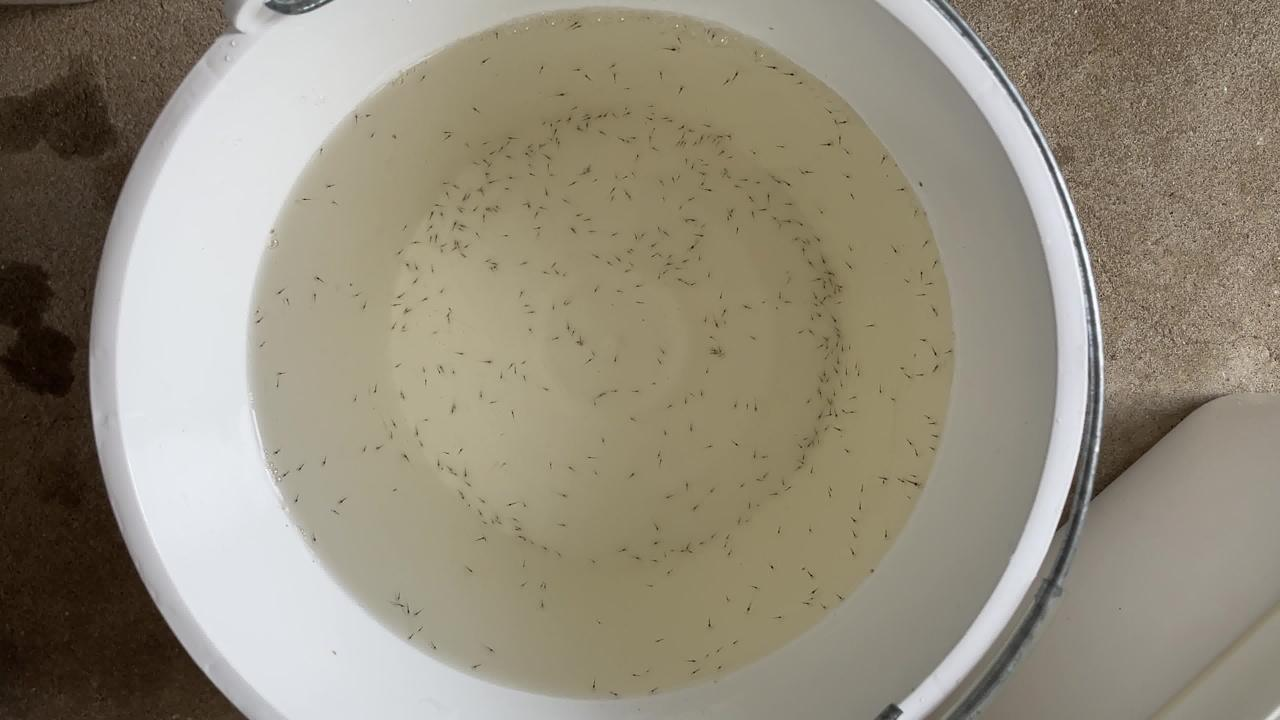shrimp: (485, 642, 497, 650), (474, 661, 486, 669), (428, 643, 440, 651), (405, 632, 417, 640), (415, 627, 427, 635), (417, 607, 429, 615), (402, 604, 414, 612), (397, 601, 409, 609), (393, 591, 405, 599), (309, 532, 321, 540), (330, 510, 342, 518), (334, 498, 346, 506), (291, 492, 303, 500), (281, 469, 293, 477), (298, 459, 310, 467), (326, 458, 338, 466), (270, 450, 282, 458), (318, 456, 330, 464), (357, 444, 369, 452), (373, 442, 385, 450), (404, 453, 416, 461), (417, 440, 429, 448), (412, 426, 424, 434), (386, 417, 398, 425), (387, 427, 399, 435), (370, 384, 382, 392), (351, 394, 363, 402), (400, 391, 412, 399), (425, 378, 437, 386), (418, 363, 430, 371), (394, 362, 406, 370), (390, 321, 402, 329), (398, 328, 410, 336), (398, 319, 410, 327), (405, 306, 417, 314), (400, 306, 412, 314), (393, 301, 405, 309), (397, 291, 409, 299), (420, 293, 432, 301), (436, 286, 448, 294), (409, 276, 421, 284), (425, 265, 437, 273), (410, 259, 422, 267), (399, 262, 411, 270), (391, 246, 403, 254), (407, 240, 419, 248), (401, 223, 413, 231), (423, 234, 435, 242), (430, 232, 442, 240), (438, 239, 450, 247), (437, 245, 449, 253), (462, 240, 474, 248), (460, 251, 472, 259), (451, 246, 463, 254), (451, 235, 463, 243), (481, 256, 493, 264), (488, 257, 500, 265), (491, 262, 503, 270), (485, 265, 497, 273), (469, 231, 481, 239), (458, 227, 470, 235), (459, 221, 471, 229), (453, 221, 465, 229), (437, 209, 449, 217), (428, 211, 440, 219), (434, 202, 446, 210), (444, 191, 456, 199), (450, 182, 462, 190), (442, 178, 454, 186), (459, 203, 471, 211), (456, 207, 468, 215), (469, 204, 481, 212), (479, 212, 491, 220), (482, 202, 494, 210), (489, 206, 501, 214), (494, 200, 506, 208), (459, 190, 471, 198), (466, 190, 478, 198), (474, 186, 486, 194), (486, 177, 498, 185), (505, 173, 517, 181), (503, 182, 515, 190), (483, 169, 495, 177), (471, 159, 483, 167), (480, 154, 492, 162), (483, 160, 495, 168), (504, 150, 516, 158), (508, 133, 520, 141), (503, 136, 515, 144), (497, 142, 509, 150), (489, 149, 501, 157), (482, 137, 494, 145), (465, 139, 477, 147), (445, 134, 457, 142), (444, 126, 456, 134), (469, 106, 481, 114), (536, 61, 548, 69), (557, 89, 569, 97), (569, 101, 581, 109), (564, 115, 576, 123), (556, 115, 568, 123), (546, 118, 558, 126), (538, 115, 550, 123), (550, 123, 562, 131), (551, 130, 563, 138), (555, 136, 567, 144), (548, 131, 560, 139), (540, 137, 552, 145), (524, 141, 536, 149), (529, 143, 541, 151), (524, 149, 536, 157), (543, 149, 555, 157), (544, 160, 556, 168), (525, 159, 537, 167), (525, 167, 537, 175), (550, 167, 562, 175), (540, 185, 552, 193), (537, 200, 549, 208), (530, 210, 542, 218), (527, 201, 539, 209), (523, 200, 535, 208), (569, 177, 581, 185), (562, 194, 574, 202), (582, 167, 594, 175), (593, 176, 605, 184), (610, 170, 622, 178), (621, 171, 633, 179), (636, 152, 648, 160), (621, 189, 633, 197), (609, 192, 621, 200), (608, 184, 620, 192), (617, 133, 629, 141), (622, 136, 634, 144), (629, 131, 641, 139), (600, 129, 612, 137), (573, 125, 585, 133), (581, 122, 593, 130), (582, 109, 594, 117), (583, 115, 595, 123), (592, 112, 604, 120), (600, 108, 612, 116), (609, 111, 621, 119), (622, 102, 634, 110), (621, 107, 633, 115), (646, 100, 658, 108), (648, 108, 660, 116), (645, 115, 657, 123), (649, 121, 661, 129), (645, 132, 657, 140), (648, 143, 660, 151), (660, 111, 672, 119), (668, 115, 680, 123), (675, 120, 687, 128), (679, 130, 691, 138), (671, 137, 683, 145), (676, 137, 688, 145), (681, 140, 693, 148), (687, 126, 699, 134), (700, 121, 712, 129), (695, 131, 707, 139), (711, 129, 723, 137), (723, 129, 735, 137), (709, 135, 721, 143), (715, 138, 727, 146), (715, 146, 727, 154), (725, 149, 737, 157), (747, 143, 759, 151), (774, 140, 786, 148), (807, 169, 819, 177), (799, 169, 811, 177), (784, 177, 796, 185), (775, 179, 787, 187), (767, 172, 779, 180), (753, 177, 765, 185), (739, 175, 751, 183), (724, 172, 736, 180), (718, 171, 730, 179), (719, 164, 731, 172), (698, 152, 710, 160), (701, 159, 713, 167), (687, 161, 699, 169), (683, 156, 695, 164), (696, 166, 708, 174), (698, 176, 710, 184), (701, 183, 713, 191), (673, 170, 685, 178), (667, 174, 679, 182), (660, 175, 672, 183), (659, 192, 671, 200), (688, 192, 700, 200), (676, 200, 688, 208), (688, 215, 700, 223), (678, 216, 690, 224), (699, 220, 711, 228), (734, 180, 746, 188), (746, 193, 758, 201), (763, 189, 775, 197), (759, 202, 771, 210), (747, 209, 759, 217), (730, 229, 742, 237), (728, 202, 740, 210), (724, 204, 736, 212), (722, 210, 734, 218), (786, 199, 798, 207), (767, 212, 779, 220), (783, 217, 795, 225), (778, 221, 790, 229), (798, 217, 810, 225), (815, 232, 827, 240), (805, 237, 817, 245), (800, 237, 812, 245), (792, 232, 804, 240), (797, 243, 809, 251), (818, 255, 830, 263), (842, 241, 854, 249), (842, 257, 854, 265), (804, 256, 816, 264), (824, 267, 836, 275), (826, 277, 838, 285), (835, 279, 847, 287), (835, 284, 847, 292), (831, 287, 843, 295), (818, 280, 830, 288), (811, 274, 823, 282), (826, 290, 838, 298), (821, 292, 833, 300), (836, 297, 848, 305), (811, 286, 823, 294), (809, 297, 821, 305), (817, 295, 829, 303), (829, 313, 841, 321), (816, 309, 828, 317), (808, 311, 820, 319), (807, 327, 819, 335), (798, 325, 810, 333), (832, 320, 844, 328), (831, 325, 843, 333), (832, 335, 844, 343), (844, 340, 856, 348), (838, 342, 850, 350), (819, 332, 831, 340), (824, 340, 836, 348), (815, 339, 827, 347), (820, 351, 832, 359), (832, 352, 844, 360), (843, 367, 855, 375), (851, 358, 863, 366), (855, 366, 867, 374), (829, 364, 841, 372), (837, 378, 849, 386), (848, 393, 860, 401), (847, 408, 859, 416), (837, 407, 849, 415), (830, 386, 842, 394), (824, 375, 836, 383), (820, 368, 832, 376), (814, 374, 826, 382), (814, 387, 826, 395), (823, 395, 835, 403), (804, 393, 816, 401), (815, 410, 827, 418), (821, 408, 833, 416), (834, 406, 846, 414), (835, 426, 847, 434), (825, 421, 837, 429), (784, 273, 796, 281), (782, 296, 794, 304), (775, 286, 787, 294), (758, 295, 770, 303), (772, 304, 784, 312), (740, 299, 752, 307), (747, 333, 759, 341), (695, 228, 707, 236), (688, 240, 700, 248), (695, 253, 707, 261), (704, 267, 716, 275), (714, 289, 726, 297), (720, 305, 732, 313), (720, 315, 732, 323), (713, 315, 725, 323), (698, 313, 710, 321), (709, 331, 721, 339), (717, 341, 729, 349), (719, 349, 731, 357), (711, 349, 723, 357), (708, 341, 720, 349), (701, 365, 713, 373), (682, 252, 694, 260), (673, 262, 685, 270), (678, 276, 690, 284), (659, 264, 671, 272), (652, 268, 664, 276), (664, 248, 676, 256), (655, 249, 667, 257), (646, 250, 658, 258), (648, 237, 660, 245), (660, 226, 672, 234), (654, 220, 666, 228), (638, 230, 650, 238), (630, 232, 642, 240), (608, 229, 620, 237), (588, 225, 600, 233), (583, 213, 595, 221), (574, 209, 586, 217), (569, 224, 581, 232), (533, 221, 545, 229), (533, 226, 545, 234), (501, 229, 513, 237), (591, 248, 603, 256), (604, 259, 616, 267), (613, 253, 625, 261), (625, 249, 637, 257), (626, 243, 638, 251), (625, 258, 637, 266), (624, 264, 636, 272), (632, 281, 644, 289), (636, 296, 648, 304), (690, 277, 702, 285), (617, 285, 629, 293), (594, 288, 606, 296), (565, 269, 577, 277), (551, 267, 563, 275), (550, 257, 562, 265), (540, 269, 552, 277), (517, 257, 529, 265), (514, 287, 526, 295), (522, 298, 534, 306), (528, 308, 540, 316), (529, 325, 541, 333), (546, 302, 558, 310), (559, 296, 571, 304), (564, 320, 576, 328), (550, 334, 562, 342), (569, 327, 581, 335), (573, 334, 585, 342), (587, 345, 599, 353), (585, 359, 597, 367), (613, 351, 625, 359), (658, 345, 670, 353), (654, 356, 666, 364), (751, 403, 763, 411), (743, 401, 755, 409), (733, 400, 745, 408), (697, 387, 709, 395), (687, 388, 699, 396), (679, 394, 691, 402), (665, 402, 677, 410), (651, 378, 663, 386), (634, 387, 646, 395), (612, 384, 624, 392), (598, 388, 610, 396), (590, 397, 602, 405), (631, 415, 643, 423), (687, 419, 699, 427), (660, 426, 672, 434), (654, 444, 666, 452), (658, 460, 670, 468), (517, 355, 529, 363), (541, 384, 553, 392), (522, 377, 534, 385), (515, 368, 527, 376), (504, 359, 516, 367), (496, 370, 508, 378), (481, 358, 493, 366), (460, 349, 472, 357), (427, 328, 439, 336), (442, 314, 454, 322), (444, 307, 456, 315), (450, 366, 462, 374), (437, 362, 449, 370), (432, 365, 444, 373), (473, 389, 485, 397), (488, 396, 500, 404), (509, 409, 521, 417), (447, 404, 459, 412), (458, 447, 470, 455), (440, 446, 452, 454), (433, 458, 445, 466), (441, 461, 453, 469), (446, 466, 458, 474), (462, 465, 474, 473), (464, 479, 476, 487), (458, 489, 470, 497), (479, 493, 491, 501), (474, 507, 486, 515), (492, 510, 504, 518), (496, 518, 508, 526), (490, 518, 502, 526), (482, 518, 494, 526), (480, 532, 492, 540), (474, 535, 486, 543), (462, 565, 474, 573), (501, 458, 513, 466), (542, 462, 554, 470), (563, 463, 575, 471), (588, 452, 600, 460), (597, 440, 609, 448), (591, 472, 603, 480), (625, 472, 637, 480), (558, 489, 570, 497), (506, 500, 518, 508), (518, 499, 530, 507), (509, 516, 521, 524), (512, 523, 524, 531), (515, 531, 527, 539), (524, 535, 536, 543), (535, 542, 547, 550), (551, 548, 563, 556), (558, 519, 570, 527), (540, 580, 552, 588), (536, 579, 548, 587), (536, 599, 548, 607), (521, 580, 533, 588), (521, 558, 533, 566), (590, 554, 602, 562), (616, 547, 628, 555), (630, 550, 642, 558), (651, 556, 663, 564), (667, 567, 679, 575), (648, 582, 660, 590), (590, 679, 602, 687), (603, 689, 615, 697), (629, 673, 641, 681), (650, 685, 662, 693), (692, 666, 704, 674), (715, 665, 727, 673), (734, 636, 746, 644), (712, 647, 724, 655), (700, 650, 712, 658), (685, 655, 697, 663), (653, 637, 665, 645), (594, 616, 606, 624), (703, 618, 715, 626), (727, 593, 739, 601), (746, 602, 758, 610), (771, 611, 783, 619), (752, 582, 764, 590), (765, 563, 777, 571), (774, 521, 786, 529), (806, 523, 818, 531), (797, 566, 809, 574), (807, 569, 819, 577), (810, 582, 822, 590), (810, 592, 822, 600), (805, 598, 817, 606), (821, 602, 833, 610), (835, 593, 847, 601), (850, 548, 862, 556), (881, 531, 893, 539), (845, 528, 857, 536), (849, 513, 861, 521), (856, 501, 868, 509), (856, 486, 868, 494), (829, 483, 841, 491), (824, 491, 836, 499), (844, 443, 856, 451), (813, 424, 825, 432), (808, 436, 820, 444), (800, 431, 812, 439), (794, 439, 806, 447), (801, 451, 813, 459), (796, 455, 808, 463), (795, 464, 807, 472), (807, 464, 819, 472), (783, 485, 795, 493), (779, 476, 791, 484), (771, 490, 783, 498), (752, 500, 764, 508), (745, 500, 757, 508), (744, 515, 756, 523), (735, 513, 747, 521), (726, 530, 738, 538), (720, 536, 732, 544), (724, 543, 736, 551), (708, 529, 720, 537), (695, 537, 707, 545), (684, 541, 696, 549), (678, 545, 690, 553), (667, 544, 679, 552), (653, 535, 665, 543), (650, 522, 662, 530), (667, 493, 679, 501), (685, 480, 697, 488), (706, 483, 718, 491), (693, 500, 705, 508), (743, 478, 755, 486), (750, 454, 762, 462), (764, 450, 776, 458), (763, 468, 775, 476), (732, 439, 744, 447), (704, 442, 716, 450), (755, 474, 767, 482), (876, 472, 888, 480), (897, 475, 909, 483), (908, 483, 920, 491), (903, 494, 915, 502), (910, 470, 922, 478), (926, 446, 938, 454), (932, 432, 944, 440), (930, 420, 942, 428), (910, 449, 922, 457), (907, 437, 919, 445), (923, 414, 935, 422), (888, 396, 900, 404), (879, 387, 891, 395), (896, 360, 908, 368), (903, 370, 915, 378), (911, 370, 923, 378), (929, 365, 941, 373), (928, 347, 940, 355), (945, 346, 957, 354), (911, 336, 923, 344), (935, 307, 947, 315), (868, 319, 880, 327), (914, 291, 926, 299), (926, 278, 938, 286), (933, 258, 945, 266), (916, 266, 928, 274), (902, 276, 914, 284), (920, 237, 932, 245), (892, 245, 904, 253), (913, 205, 925, 213), (896, 185, 908, 193), (879, 156, 891, 164), (846, 192, 858, 200), (814, 207, 826, 215), (845, 170, 857, 178), (841, 150, 853, 158), (834, 132, 846, 140), (822, 139, 834, 147), (841, 118, 853, 126), (831, 121, 843, 129), (822, 107, 834, 115), (795, 79, 807, 87), (784, 70, 796, 78), (766, 62, 778, 70), (734, 68, 746, 76), (721, 74, 733, 82), (676, 85, 688, 93), (708, 33, 720, 41), (707, 28, 719, 36), (675, 35, 687, 43), (670, 43, 682, 51), (657, 69, 669, 77), (623, 84, 635, 92), (609, 72, 621, 80), (610, 59, 622, 67), (584, 74, 596, 82), (576, 67, 588, 75), (575, 21, 587, 29), (569, 16, 581, 24), (493, 30, 505, 38), (480, 53, 492, 61), (418, 71, 430, 79), (387, 132, 399, 140), (367, 133, 379, 141), (360, 109, 372, 117), (348, 112, 360, 120), (315, 144, 327, 152), (325, 180, 337, 188), (331, 199, 343, 207), (301, 196, 313, 204), (358, 299, 370, 307), (347, 290, 359, 298), (343, 282, 355, 290), (308, 271, 320, 279), (310, 291, 322, 299), (283, 296, 295, 304), (279, 284, 291, 292), (253, 307, 265, 315), (256, 311, 268, 319), (257, 338, 269, 346), (273, 367, 285, 375), (273, 380, 285, 388), (419, 415, 431, 423), (390, 483, 402, 491), (749, 48, 761, 56), (542, 17, 554, 25)
